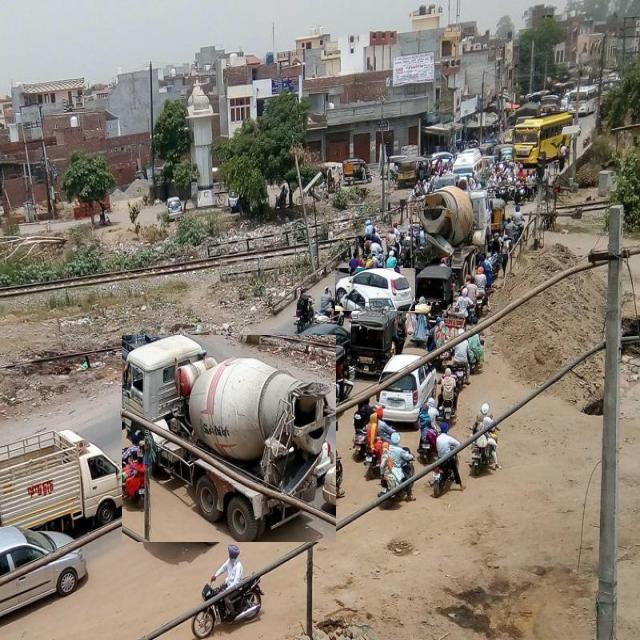bus: (512, 112, 572, 165)
car: (335, 268, 415, 311)
truck: (122, 335, 335, 542), (0, 430, 134, 528), (415, 185, 491, 284)
